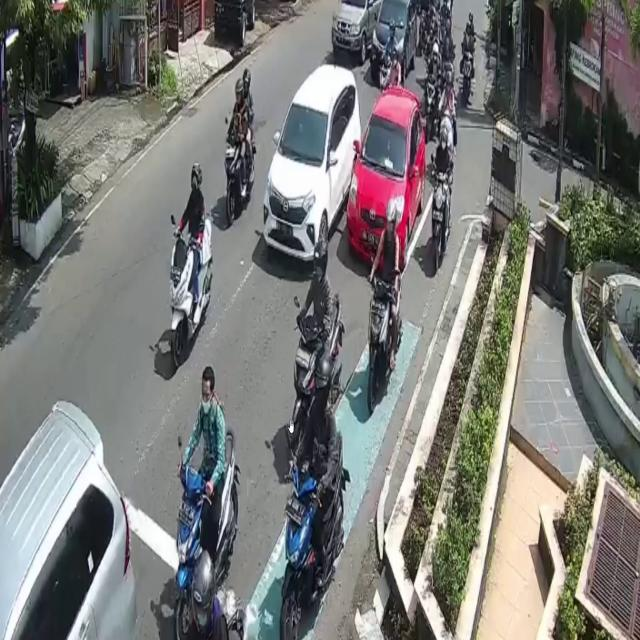bus: (280, 430, 346, 640), (174, 424, 238, 640), (293, 292, 342, 442), (169, 220, 212, 364), (366, 280, 392, 418), (225, 124, 255, 222), (430, 167, 447, 277)
motorcycle: (0, 397, 138, 640), (263, 63, 360, 276), (348, 84, 426, 271), (372, 0, 418, 81), (333, 0, 380, 62)
